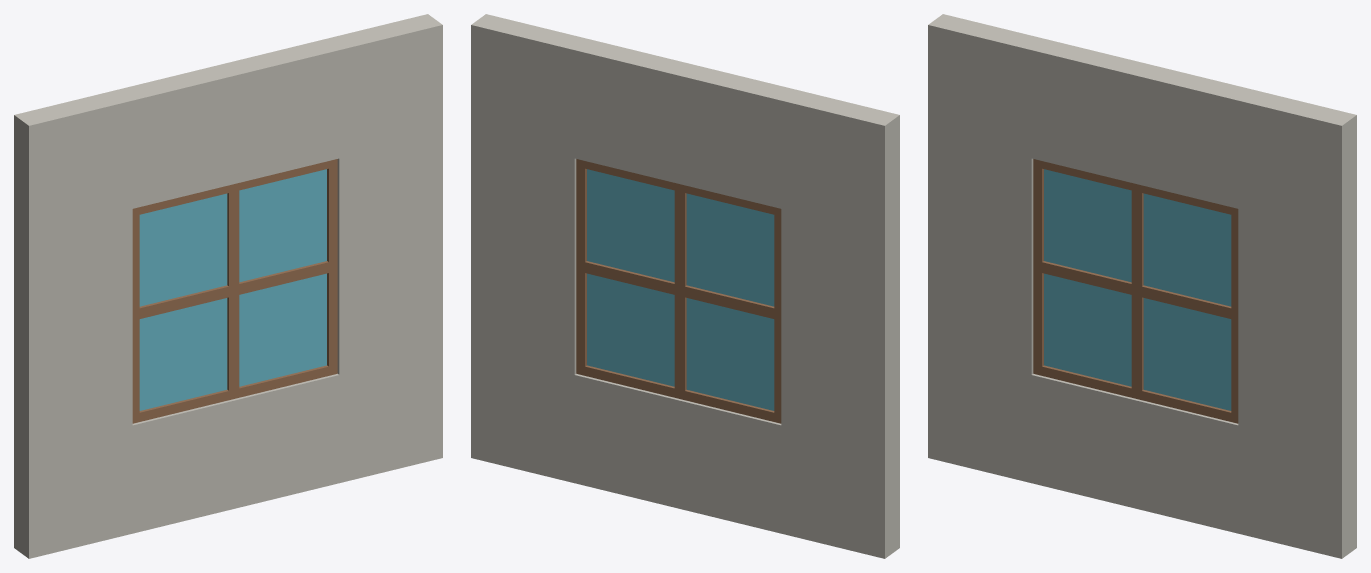
Rendered from wall3.fbx.
The picture shows the model from 3 angles, left to right: view 1: azimuth 30°, elevation 25°; view 2: azimuth 150°, elevation 25°; view 3: azimuth 330°, elevation 25°; orthographic projection.
Parts seen in each view (by area): view 1: Cube; view 2: Cube; view 3: Cube.
Boxes of the visible parts, box(x1,y1,x2,y2) form: Cube: box(14, 14, 442, 558); Cube: box(471, 14, 899, 558); Cube: box(928, 14, 1356, 558).
Bounding box in the file's own units: 8 × 8 × 0.5.
